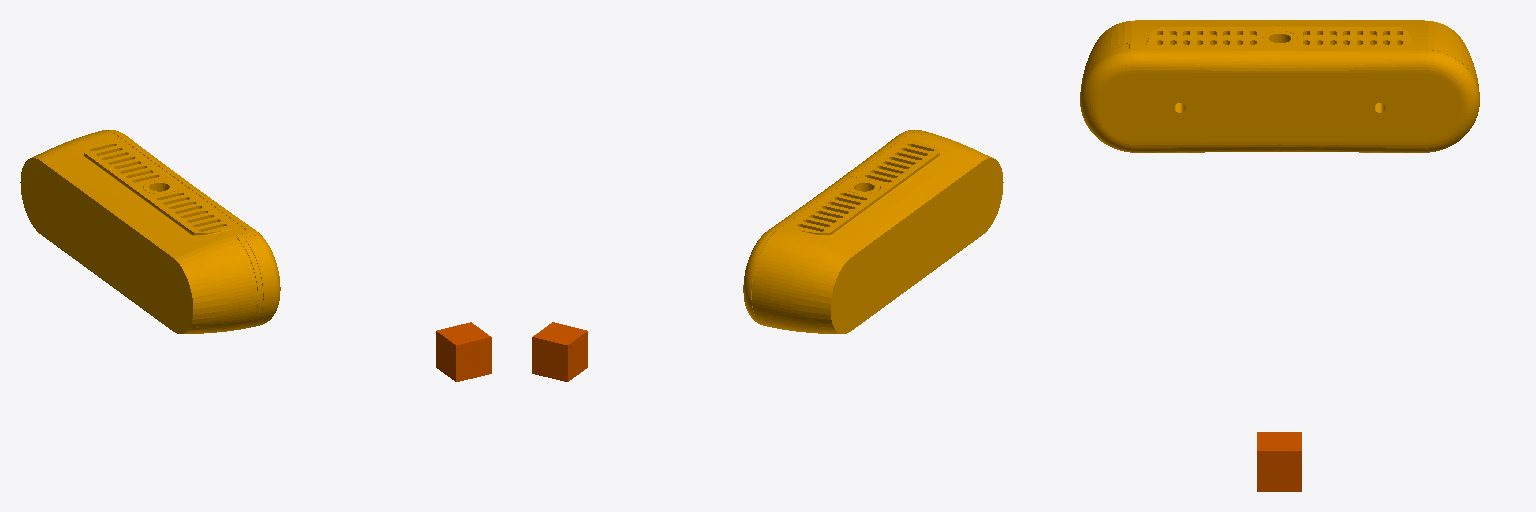
URDF robot description (VoiceVidManipulator):
<?xml version="1.0"?>
<robot name="VoiceVidManipulator">
   <material name="black">
    <color rgba="0.0 0.0 0.0 1.0"/>
  </material>
  <material name="white">
    <color rgba="1.0 1.0 1.0 1.0"/>
  </material>
  <material name="red">
    <color rgba="0.8 0.0 0.0 1.0"/>
  </material>
  <material name="blue">
    <color rgba="0.0 0.0 0.8 1.0"/>
  </material>
  <material name="green">
    <color rgba="0.0 0.8 0.0 1.0"/>
  </material>
  <material name="grey">
    <color rgba="0.5 0.5 0.5 1.0"/>
  </material>
  <material name="orange">
    <color rgba="1.0 0.4235294117647059 0.0392156862745098 1.0"/>
  </material>
  <material name="brown">
    <color rgba="0.8705882352941177 0.8117647058823529 0.7647058823529411 1.0"/>
  </material>
  <!-- World -->
  <gazebo reference="world"/>
  <!-- Link1 -->
  <RefLink ref="link1"/>
  <!-- Link2 -->
  <RefLink ref="link2"/>
  <!-- Link3 -->
  <RefLink ref="link3"/>
  <!-- Link4 -->
  <RefLink ref="link4"/>
  <!-- Link5 -->
  <RefLink ref="link5"/>
  <!-- gripper_link -->
  <RefLink ref="gripper_link"/>
  <!-- gripper_link_sub -->
  <RefLink ref="gripper_link_sub"/>
  <!-- end effector link -->
  <gazebo reference="end_effector_link">
    <material>Gazebo/Red</material>
  </gazebo>
  <!-- ros_control plugin -->
  <gazebo>
    <plugin filename="libgazebo_ros2_control.so" name="gazebo_ros2_control">
      <!-- <controlPeriod>0.001</controlPeriod>
      <robotSimType>gazebo_ros_control/DefaultRobotHWSim</robotSimType>
      <legacyModeNS>true</legacyModeNS> -->
      <!-- <xacro:property name="config_path" value="config/vvm.yaml" />
      <parameters>${arg config_path}</parameters> -->
      <parameters>[local-path]/vvm_ws/install/simulation_vvm/share/simulation_vvm/config/vvm.yaml</parameters>
      <robot_param>robot_description</robot_param>
      <robot_param_node>robot_state_publisher</robot_param_node>
      <controller_manager_name>controller_manager</controller_manager_name>
    </plugin>
  </gazebo>
  <gazebo>
    <!--loading_plugin:mimic_joints_works_in_gazebo_now-->
    <plugin filename="libroboticsgroup_gazebo_mimic_joint_plugin.so" name="gazebo_gripper_ros2_control">
      <joint>gripper</joint>
      <mimicJoint>gripper_sub</mimicJoint>
      <multiplier>1.0</multiplier>
      <offset>0.0</offset>
    </plugin>
  </gazebo>
  <ros2_control name="GazeboSystem" type="system">
    <hardware>
      <plugin>gazebo_ros2_control/GazeboSystem</plugin>
    </hardware>
    <joint name="joint1">
      <command_interface name="position"/>
      <state_interface name="position">
        <param name="initial_value">0.0</param>
      </state_interface>
      <state_interface name="velocity"/>
      <state_interface name="effort"/>
    </joint>
    <joint name="joint2">
      <command_interface name="position"/>
      <state_interface name="position">
        <param name="initial_value">0.0</param>
      </state_interface>
      <state_interface name="velocity"/>
      <state_interface name="effort"/>
    </joint>
    <joint name="joint3">
      <command_interface name="position"/>
      <state_interface name="position">
        <param name="initial_value">0.0</param>
      </state_interface>
      <state_interface name="velocity"/>
      <state_interface name="effort"/>
    </joint>
    <joint name="joint4">
      <command_interface name="position"/>
      <state_interface name="position">
        <param name="initial_value">0.7</param>
      </state_interface>
      <state_interface name="velocity"/>
      <state_interface name="effort"/>
    </joint>
    <joint name="gripper">
      <command_interface name="position"/>
      <state_interface name="position">
        <param name="initial_value">0.12</param>
      </state_interface>
      <state_interface name="velocity"/>
      <state_interface name="effort"/>
    </joint>
    <joint name="gripper_sub">
      <command_interface name="position"/>
      <state_interface name="position">
        <param name="initial_value">0.12</param>
      </state_interface>
      <state_interface name="velocity"/>
      <state_interface name="effort"/>
    </joint>
  </ros2_control>
  <!-- camera -->
  <gazebo reference="camera_link">
    <sensor name="intel_realsense_r200" type="camera">
      <update_rate>30.0</update_rate>
      <camera name="head">
        <horizontal_fov>1.02974</horizontal_fov>
        <image>
          <width>1920</width>
          <height>1080</height>
          <format>R8G8B8</format>
        </image>
        <clip>
          <near>0.02</near>
          <far>300</far>
        </clip>
        <noise>
          <type>gaussian</type>
          <!-- Noise is sampled independently per pixel on each frame.
               That pixel's noise value is added to each of its color
               channels, which at that point lie in the range [0,1]. -->
          <mean>0.0</mean>
          <stddev>0.007</stddev>
        </noise>
      </camera>
      <plugin filename="libgazebo_ros_camera.so" name="camera_controller">
        <!-- <alwaysOn>true</alwaysOn>
        <updateRate>0.0</updateRate>
        <cameraName>camera/color</cameraName>
        <imageTopicName>image_raw</imageTopicName>
        <cameraInfoTopicName>camera_info</cameraInfoTopicName> -->
        <frameName>camera_link</frameName>
        <min_depth>0.1</min_depth>
        <max_depth>500</max_depth>
        <!-- <hackBaseline>0.07</hackBaseline>
        <distortionK1>0.0</distortionK1>
        <distortionK2>0.0</distortionK2>
        <distortionK3>0.0</distortionK3>
        <distortionT1>0.0</distortionT1>
        <distortionT2>0.0</distortionT2> -->
      </plugin>
    </sensor>
  </gazebo>
  <transmission name="tran1">
    <type>transmission_interface/SimpleTransmission</type>
    <joint name="joint1">
      <hardwareInterface>hardware_interface/PositionJointInterface</hardwareInterface>
    </joint>
    <actuator name="motor1">
      <mechanicalReduction>1</mechanicalReduction>
    </actuator>
  </transmission>
  <transmission name="tran2">
    <type>transmission_interface/SimpleTransmission</type>
    <joint name="joint2">
      <hardwareInterface>hardware_interface/PositionJointInterface</hardwareInterface>
    </joint>
    <actuator name="motor2">
      <mechanicalReduction>1</mechanicalReduction>
    </actuator>
  </transmission>
  <transmission name="tran3">
    <type>transmission_interface/SimpleTransmission</type>
    <joint name="joint3">
      <hardwareInterface>hardware_interface/PositionJointInterface</hardwareInterface>
    </joint>
    <actuator name="motor3">
      <mechanicalReduction>1</mechanicalReduction>
    </actuator>
  </transmission>
  <transmission name="tran4">
    <type>transmission_interface/SimpleTransmission</type>
    <joint name="joint4">
      <hardwareInterface>hardware_interface/PositionJointInterface</hardwareInterface>
    </joint>
    <actuator name="motor4">
      <mechanicalReduction>1</mechanicalReduction>
    </actuator>
  </transmission>
  <transmission name="tran5">
    <type>transmission_interface/SimpleTransmission</type>
    <joint name="gripper">
      <hardwareInterface>hardware_interface/EffortJointInterface</hardwareInterface>
    </joint>
    <actuator name="motor5">
      <mechanicalReduction>1</mechanicalReduction>
    </actuator>
  </transmission>
  <transmission name="tran6">
    <type>transmission_interface/SimpleTransmission</type>
    <joint name="gripper_sub">
      <hardwareInterface>hardware_interface/EffortJointInterface</hardwareInterface>
    </joint>
    <actuator name="motor6">
      <mechanicalReduction>1</mechanicalReduction>
    </actuator>
  </transmission>
  
  <!-- Link definitions -->
  <link name='world'/>
  <joint name="dummy_joint" type="fixed">
    <parent link="world"/>
    <child link="link1"/>
  </joint>
  <link name="link1">
    <inertial>
      <origin xyz="0.000309 0 -0.000122" rpy="0 0 0"/>
      <mass value="0.07912"/>
      <inertia ixx="1.25052e-05" ixy="0" ixz="-1.78552e-07" iyy="2.18984e-05" iyz="0" izz="1.92674e-05"/>
    </inertial>
    <collision name="link1_collision">
      <origin xyz="0 0 0" rpy="0 0 0"/>
      <geometry>
        <mesh filename="package://simulation_vvm/meshes/chain_link1.stl" scale="0.001 0.001 0.001"/>
      </geometry>
    </collision>
    <visual name="link1_visual">
      <origin xyz="0 0 0" rpy="0 0 0"/>
      <geometry>
        <mesh filename="package://simulation_vvm/meshes/chain_link1.stl" scale="0.001 0.001 0.001"/>
      </geometry>
    </visual>
  </link>

  <link name="link2">
    <inertial>
      <origin xyz="-0.000302 0.00054 0.047433" rpy="0 0 0"/>
      <mass value="0.0984068"/>
      <inertia ixx="3.45434e-05" ixy="-1.60311e-08" ixz="-3.83752e-07" iyy="3.26893e-05" iyz="2.85119e-08" izz="1.88503e-05"/>
    </inertial>
    <collision name="link2_collision">
      <origin xyz="0 0 0.019" rpy="0 0 0"/>
      <geometry>
        <mesh filename="package://simulation_vvm/meshes/chain_link2.stl" scale="0.001 0.001 0.001"/>
      </geometry>
    </collision>
    <visual name="link2_visual">
      <origin xyz="0 0 0.019" rpy="0 0 0"/>
      <geometry>
        <mesh filename="package://simulation_vvm/meshes/chain_link2.stl" scale="0.001 0.001 0.001"/>
      </geometry>
    </visual>
  </link>

  <link name="link3">
    <inertial>
      <origin xyz="0.010308 0.000377 0.101702" rpy="0 0 0"/>
      <mass value="0.138509"/>
      <inertia ixx="0.000330554" ixy="-9.7941e-08" ixz="-3.85057e-05" iyy="0.000342904" iyz="-1.57175e-06" izz="6.03465e-05"/>
    </inertial>
    <collision name="link3_collision">
      <origin xyz="0 0 0" rpy="0 0 0"/>
      <geometry>
        <mesh filename="package://simulation_vvm/meshes/chain_link3.stl" scale="0.001 0.001 0.001"/>
      </geometry>
    </collision>
    <visual name="link3_visual">
      <origin xyz="0 0 0" rpy="0 0 0"/>
      <geometry>
        <mesh filename="package://simulation_vvm/meshes/chain_link3.stl" scale="0.001 0.001 0.001"/>
      </geometry>
    </visual>
  </link>

  <link name="link4">
    <inertial>
      <origin xyz="0.09091 0.000389 0.000224" rpy="0 0 0"/>
      <mass value="0.132746"/>
      <inertia ixx="3.06542e-05" ixy="-1.27642e-06" ixz="-2.68744e-07" iyy="0.000242303" iyz="1.15595e-08" izz="0.000251551"/>
    </inertial>
    <collision name="link4_collision">
      <origin xyz="0 0 0" rpy="0 0 0"/>
      <geometry>
        <mesh filename="package://simulation_vvm/meshes/chain_link4.stl" scale="0.001 0.001 0.001"/>
      </geometry>
    </collision>
    <visual name="link4_visual">
      <origin xyz="0 0 0" rpy="0 0 0"/>
      <geometry>
        <mesh filename="package://simulation_vvm/meshes/chain_link4.stl" scale="0.001 0.001 0.001"/>
      </geometry>
    </visual>
  </link>

  <link name="link5">
    <inertial>
      <origin xyz="0.044774 0 0.008852" rpy="0 0 0"/>
      <mass value="0.144276"/>
      <inertia ixx="0.00108095" ixy="2.99238e-11" ixz="-2.9172e-07" iyy="0.0010827" iyz="-3.26124e-12" izz="0.00109977"/>
    </inertial>
    <collision name="link5_collision">
      <origin xyz="0 0 0" rpy="0 0 0"/>
      <geometry>
        <mesh filename="package://simulation_vvm/meshes/chain_link5.stl" scale="0.001 0.001 0.001"/>
      </geometry>
    </collision>
    <visual name="link5_visual">
      <origin xyz="0 0 0" rpy="0 0 0"/>
      <geometry>
        <mesh filename="package://simulation_vvm/meshes/chain_link5.stl" scale="0.001 0.001 0.001"/>
      </geometry>
    </visual>
    <visual name="link5_fixed_joint_lump__end_effector_link_visual_1">
      <origin xyz="0.126 0 0" rpy="0 0 0"/>
      <geometry>
        <box size="0.01 0.01 0.01"/>
      </geometry>
    </visual>
  </link>

  <link name="gripper_link">
    <inertial>
      <origin xyz="0 0 0" rpy="0 0 0"/>
      <mass value="0.001"/>
      <inertia ixx="0.001" ixy="0" ixz="0" iyy="0.001" iyz="0" izz="0.001"/>
    </inertial>
    <collision name="gripper_link_collision">
      <origin xyz="0 0 0" rpy="0 0 0"/>
      <geometry>
        <mesh filename="package://simulation_vvm/meshes/chain_link_grip_l.stl" scale="0.001 0.001 0.001"/>
      </geometry>
    </collision>
    <visual name="gripper_link_visual">
      <origin xyz="0 0 0" rpy="0 0 0"/>
      <geometry>
        <mesh filename="package://simulation_vvm/meshes/chain_link_grip_l.stl" scale="0.001 0.001 0.001"/>
      </geometry>
    </visual>
  </link>

  <link name="gripper_link_sub">
    <inertial>
      <origin xyz="0 0 0" rpy="0 0 0"/>
      <mass value="0.001"/>
      <inertia ixx="0.001" ixy="0" ixz="0" iyy="0.001" iyz="0" izz="0.001"/>
    </inertial>
    <collision name="gripper_link_sub_collision">
      <origin xyz="0 0 0" rpy="0 0 0"/>
      <geometry>
        <mesh filename="package://simulation_vvm/meshes/chain_link_grip_r.stl" scale="0.001 0.001 0.001"/>
      </geometry>
    </collision>
    <visual name="gripper_link_sub_visual">
      <origin xyz="0 0 0" rpy="0 0 0"/>
      <geometry>
        <mesh filename="package://simulation_vvm/meshes/chain_link_grip_r.stl" scale="0.001 0.001 0.001"/>
      </geometry>
    </visual>
  </link>

  <link name="camera_link">
    <inertial>
      <origin xyz="0 0 0" rpy="0 0 0"/>
      <mass value="0.001"/>
      <inertia ixx="0.001" ixy="0" ixz="0" iyy="0.001" iyz="0" izz="0.001"/>
    </inertial>
    <collision name="camera_link_collision">
      <origin xyz="0 0 0" rpy="0 0 0"/>
      <geometry>
        <mesh filename="package://simulation_vvm/meshes/IntelRealsense_D435_Multibody.STL" scale="0.001 0.001 0.001"/>
      </geometry>
    </collision>
    <visual name="camera_link_visual">
      <origin xyz="0 0 0" rpy="0 0 0"/>
      <geometry>
        <!-- <box size="0.1 0.1 0.1"/> -->
        <mesh filename="package://simulation_vvm/meshes/IntelRealsense_D435_Multibody.STL" scale="0.001 0.001 0.001"/>
      </geometry>
    </visual>
  </link>

  <!-- Joint definitions -->
  <joint name="joint1" type="revolute">
    <parent link="link1"/>
    <child link="link2"/>
    <origin xyz="0.012 0 0.017" rpy="0 0 0"/>
    <axis xyz="0 0 1"/>
    <limit lower="-2.82743" upper="2.82743" effort="1" velocity="4.8"/>
    <dynamics damping="0" friction="0" />
  </joint>

  <joint name="joint2" type="revolute">
    <parent link="link2"/>
    <child link="link3"/>
    <origin xyz="0 0 0.0595" rpy="0 0 0"/>
    <axis xyz="0 1 0"/>
    <limit lower="-1.79071" upper="1.5708" effort="1" velocity="4.8"/>
    <dynamics damping="0" friction="0" />
  </joint>

  <joint name="joint3" type="revolute">
    <parent link="link3"/>
    <child link="link4"/>
    <origin xyz="0.024 0 0.128" rpy="0 0 0"/>
    <axis xyz="0 1 0"/>
    <limit lower="-0.942478" upper="1.3823" effort="1" velocity="4.8"/>
    <dynamics damping="0" friction="0" />
  </joint>

  <joint name="joint4" type="revolute">
    <parent link="link4"/>
    <child link="link5"/>
    <origin xyz="0.124 0 0" rpy="0 0 0"/>
    <axis xyz="0 1 0"/>
    <limit lower="-1.79071" upper="2.04204" effort="1" velocity="4.8"/>
    <dynamics damping="0" friction="0" />
  </joint>

  <joint name="gripper" type="prismatic">
    <parent link="link5"/>
    <child link="gripper_link"/>
    <origin xyz="0.0817 0.021 0" rpy="0 0 0"/>
    <axis xyz="0 1 0"/>
    <limit lower="-0.01" upper="0.019" effort="1" velocity="4.8"/>
    <dynamics damping="0" friction="0" />
  </joint>

  <joint name="gripper_sub" type="prismatic">
    <parent link="link5"/>
    <child link="gripper_link_sub"/>
    <origin xyz="0.0817 -0.021 0" rpy="0 0 0"/>
    <axis xyz="0 -1 0"/>
    <limit lower="-0.01" upper="0.019" effort="1" velocity="4.8"/>
    <dynamics damping="0" friction="0" />
  </joint>

  <joint name="camera_joint" type="fixed">
    <axis xyz="0 1 0" />
    <origin xyz="0.05 -0.045 0.065" rpy="-1.5708 0 1.5708"/> 
    <parent link="link5"/>
    <child link="camera_link"/>
  </joint>
</robot>

--- What the picture shows (computed from the rendered views, not written in the file) ---
3 views of the same robot in one strip: view 1: azimuth 30°, elevation 25°; view 2: azimuth 150°, elevation 25°; view 3: azimuth 270°, elevation 25° (orthographic).
Robot: VoiceVidManipulator — 9 links, 8 joints (4 revolute, 2 prismatic, 2 fixed); root link world; default pose: every joint at zero.
Links seen in each view (by area): view 1: camera_link, link5; view 2: camera_link, link5; view 3: camera_link, link5.
Boxes of the visible links, x1,y1,x2,y2 form: camera_link: [20, 130, 280, 333]; link5: [436, 322, 491, 381]; camera_link: [743, 130, 1003, 333]; link5: [532, 322, 587, 381]; camera_link: [1080, 20, 1479, 152]; link5: [1257, 432, 1301, 491].
Bounding box of the posed robot: 0.1063 × 0.09 × 0.0699 m (x, y, z).
Meshes: 8 distinct files referenced, 1 mesh visuals loaded (1 binary STL); not drawn: 7 (reference not matched to a file when rendering).